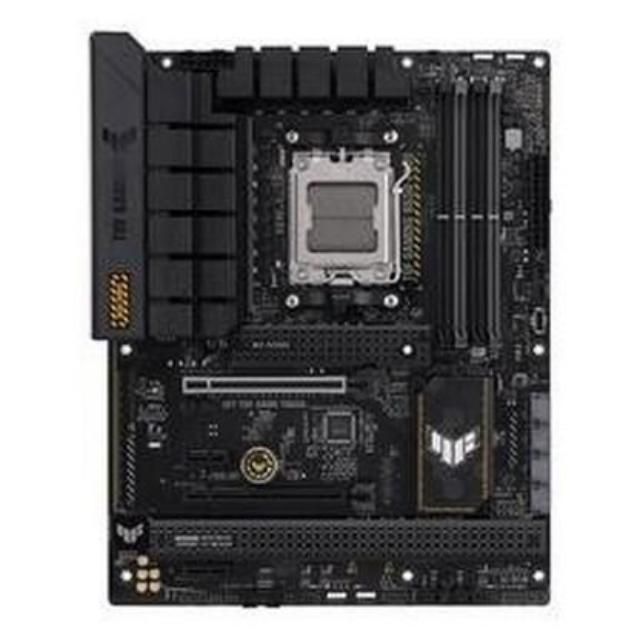Mainboard: (75, 18, 562, 620)
